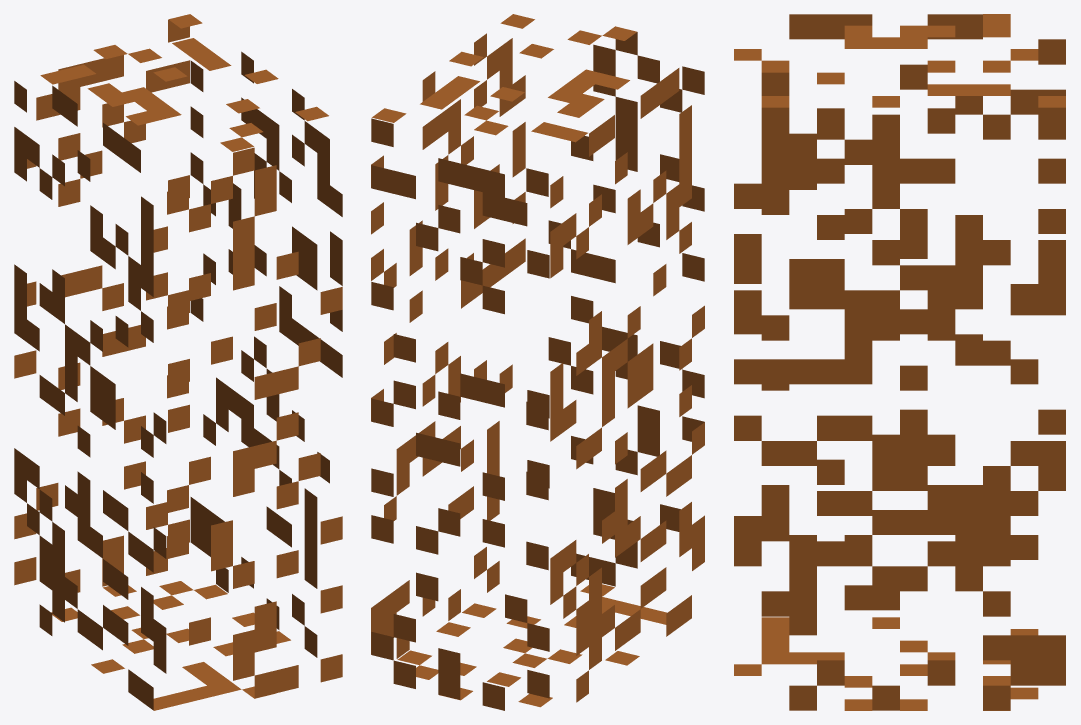
File: crate_2.dae
3 renders of one model, left to right at view 1: azimuth 30°, elevation 25°; view 2: azimuth 150°, elevation 25°; view 3: azimuth 270°, elevation 25°, orthographic. The views are drawn at different scales.
Parts seen in each view (by area): view 1: node2; view 2: node2; view 3: node2.
Boxes of the visible parts, left/top/right/bottom form: node2: left=14, top=14, right=342, bottom=710; node2: left=371, top=14, right=704, bottom=710; node2: left=734, top=14, right=1065, bottom=710.
Size of the model in its own units: 2.01 by 3.01 by 6.01.
